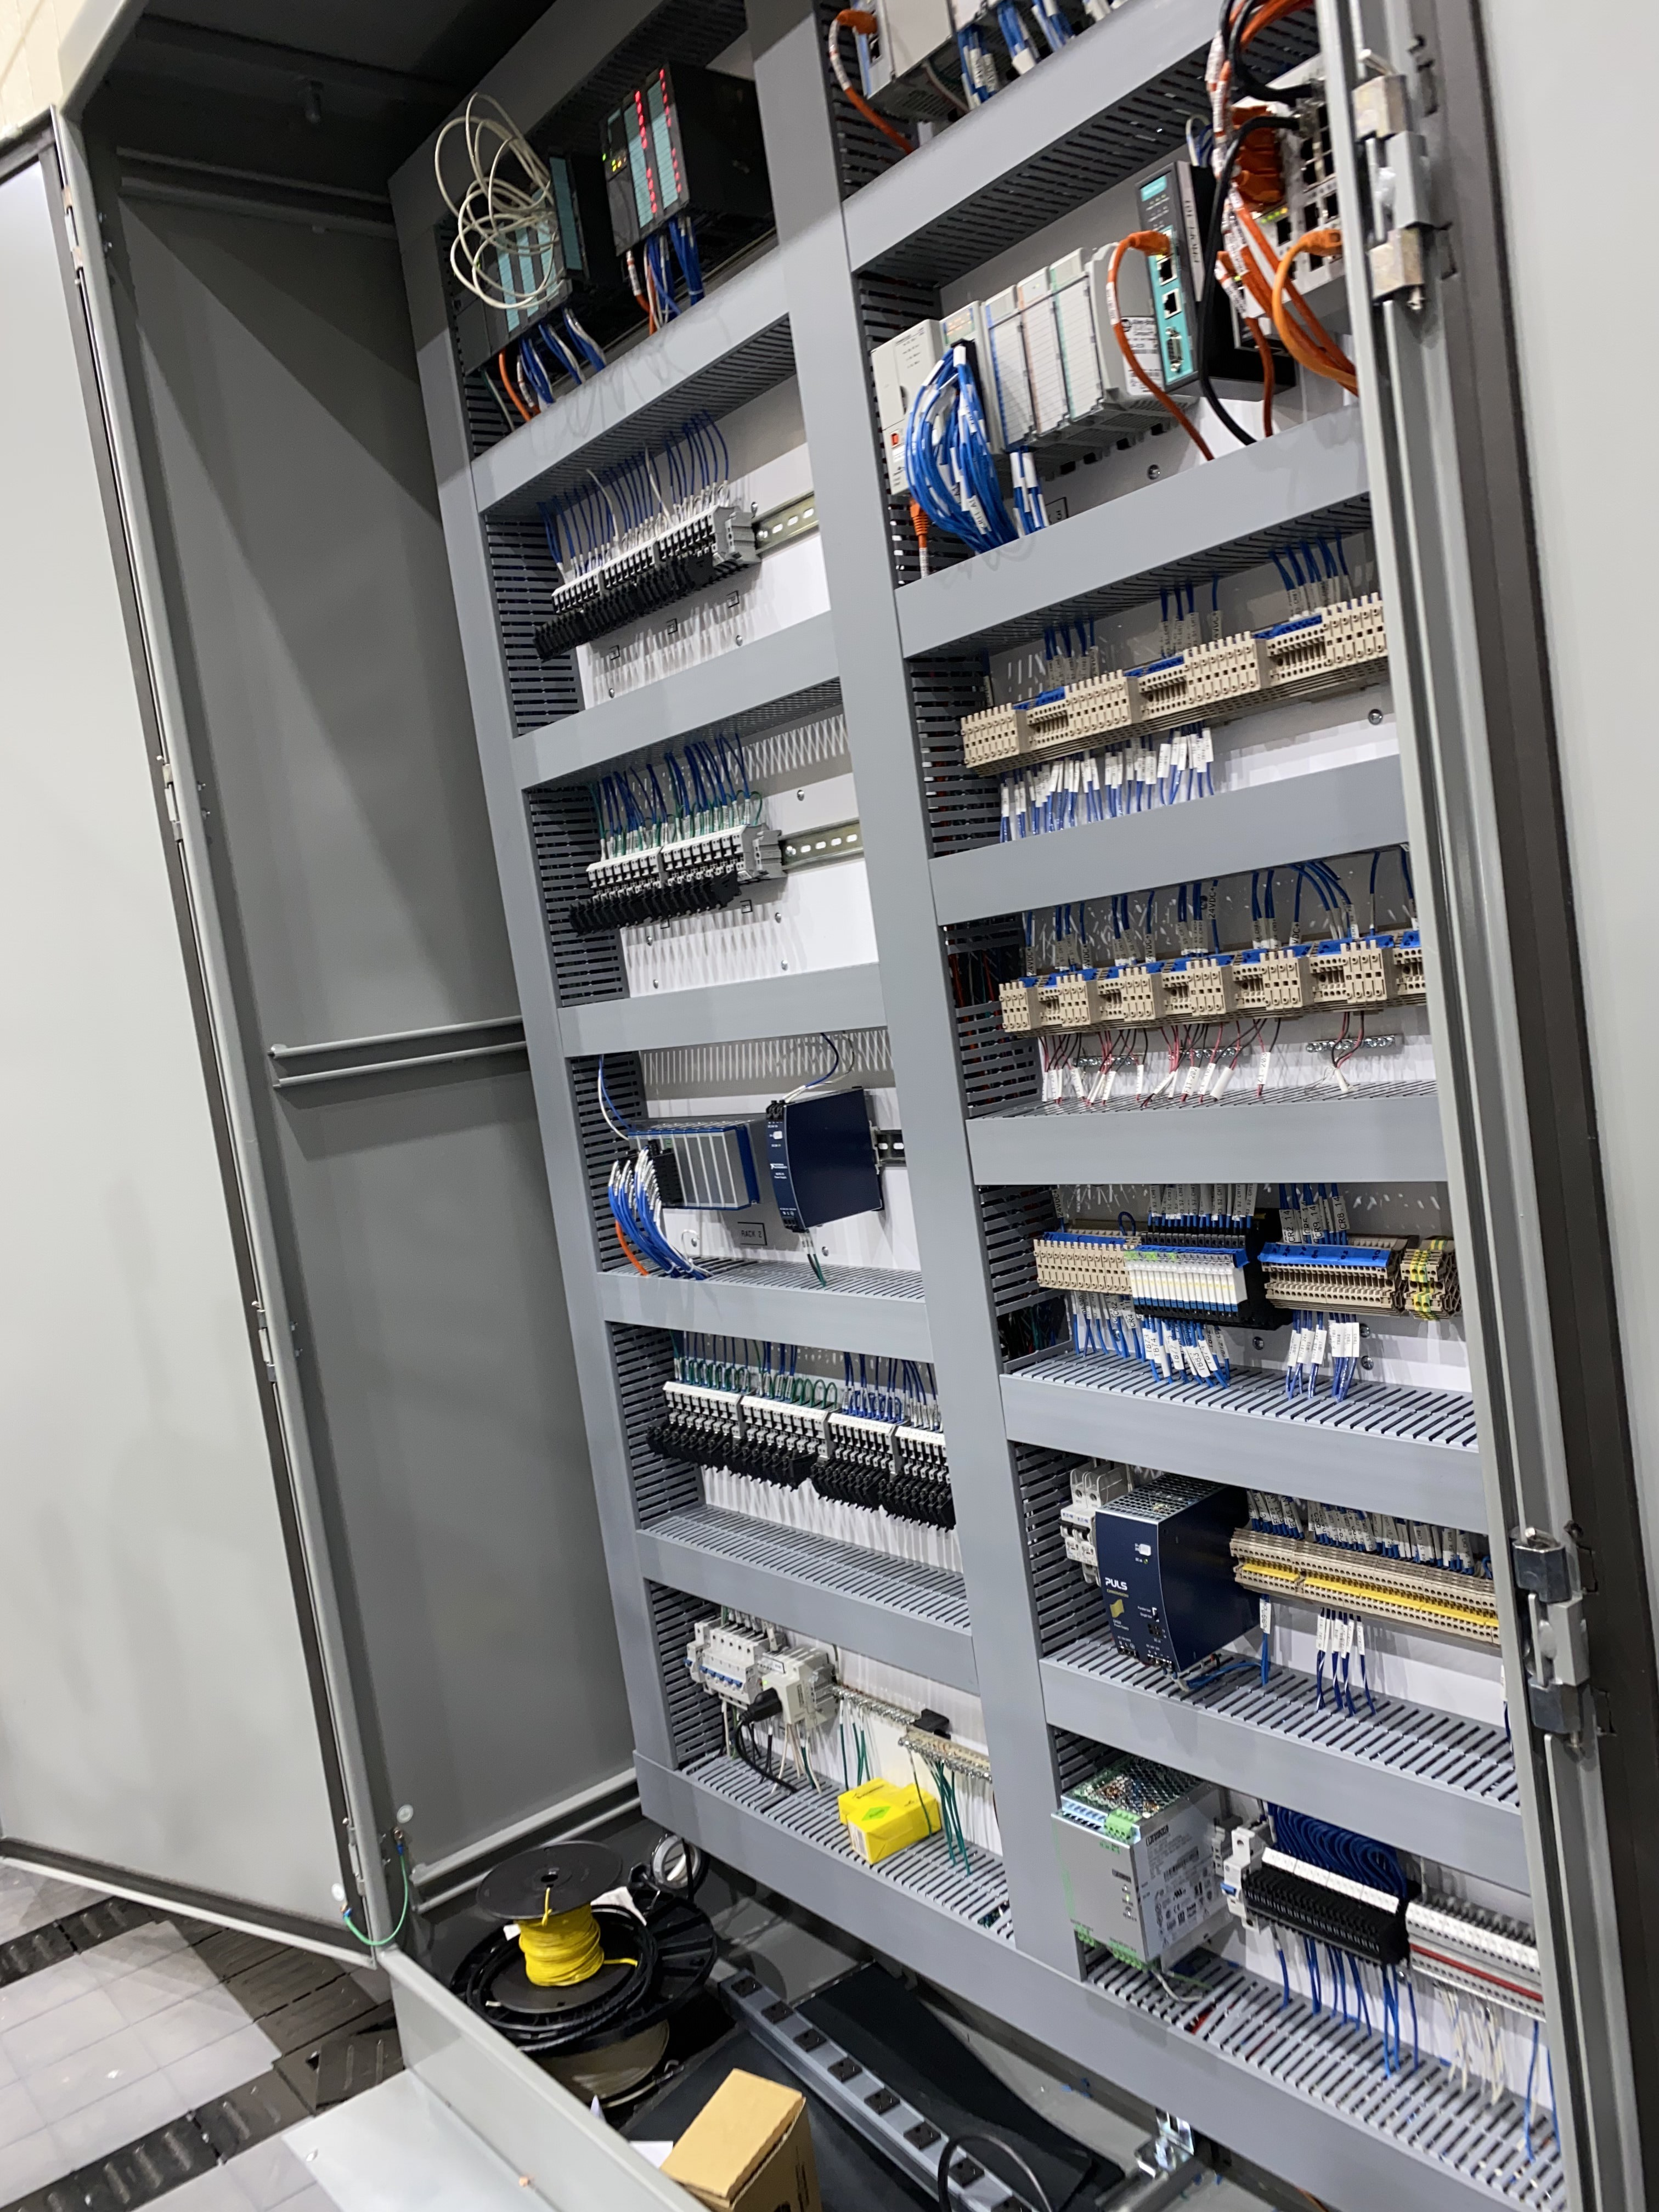AllenBradley: (861, 294, 951, 503)
Siemens: (464, 214, 514, 362)
